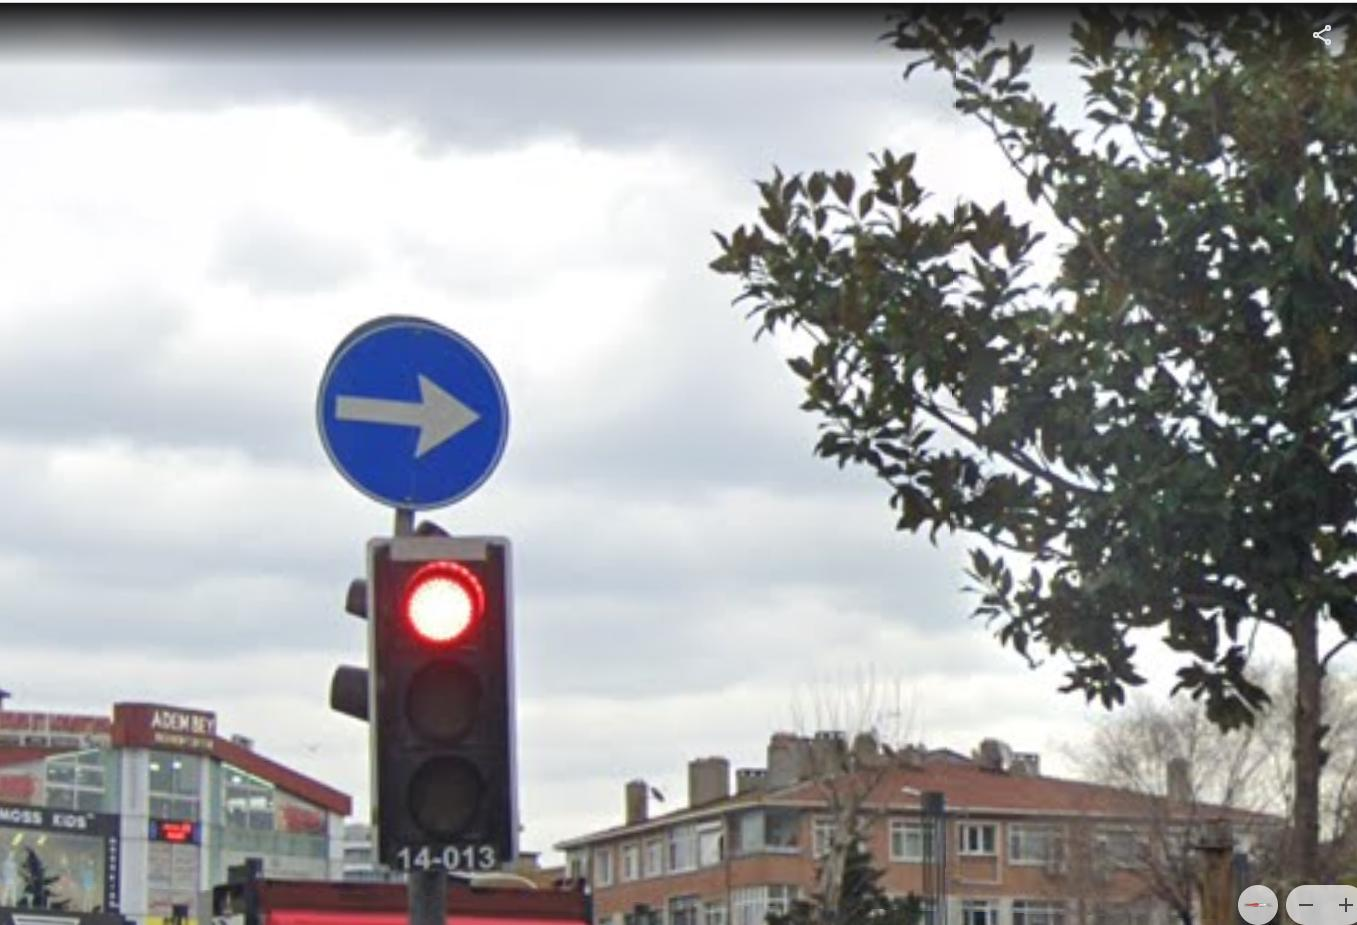redlight: (371, 547, 501, 832)
turnright: (322, 318, 514, 515)
